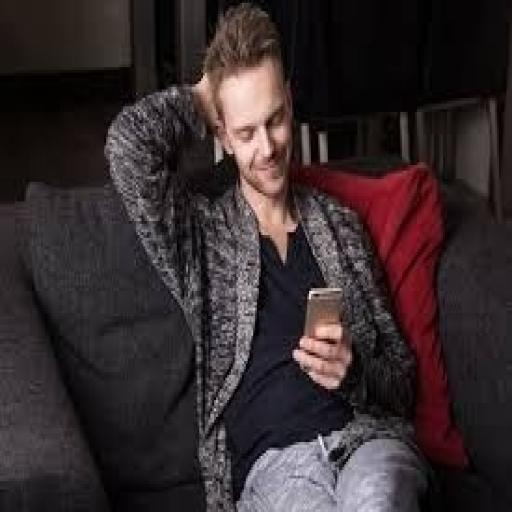texting: (102, 0, 434, 509)
